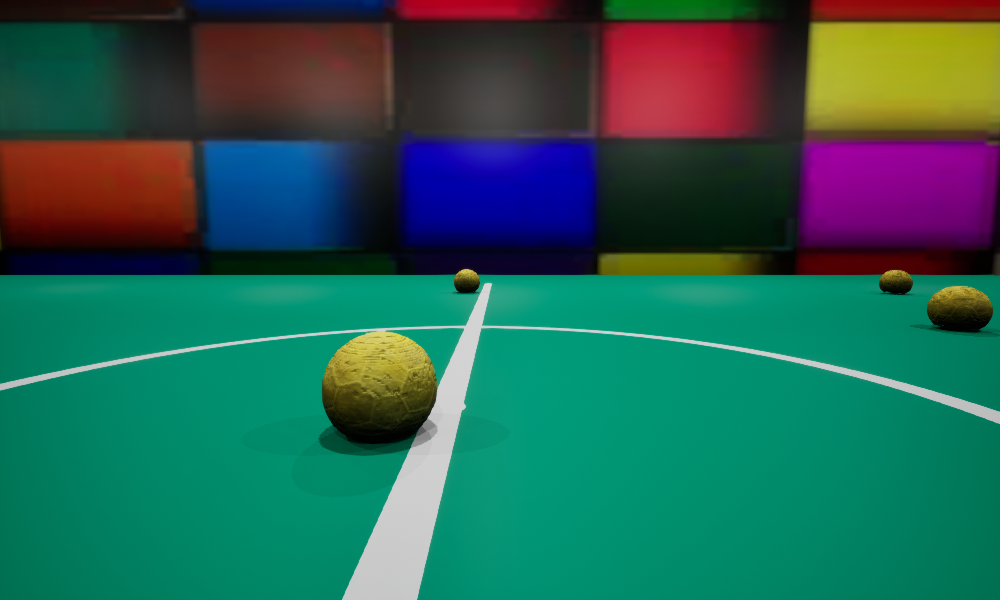b: (322, 331, 436, 441), (927, 286, 992, 330), (879, 270, 912, 293), (454, 269, 479, 292)
